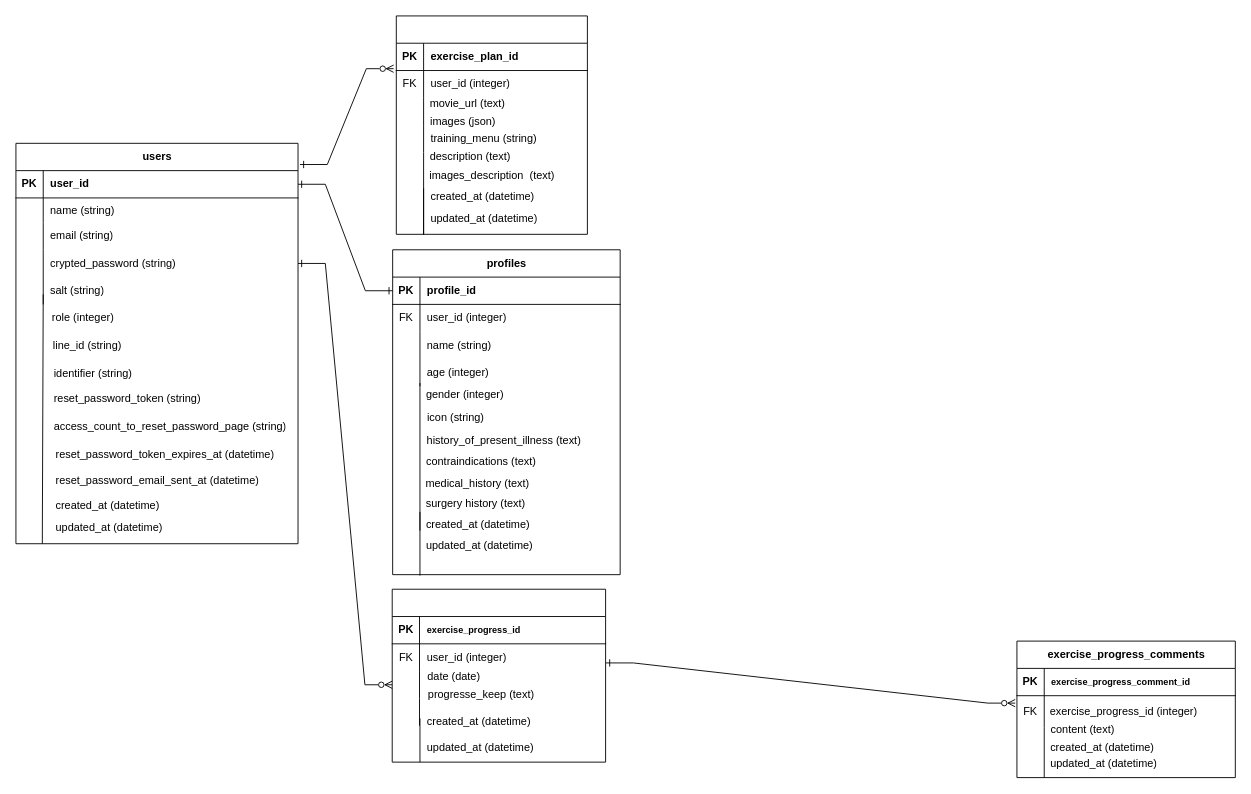
Some shapes in this 1251 by 794 pixel diagram are drawn without their labels. The box of each missing label's shape, as (x1, y1, x2, y2) in pixels:
exercise_plans: (395, 15, 587, 234)
exercise_progresses: (391, 588, 606, 762)
